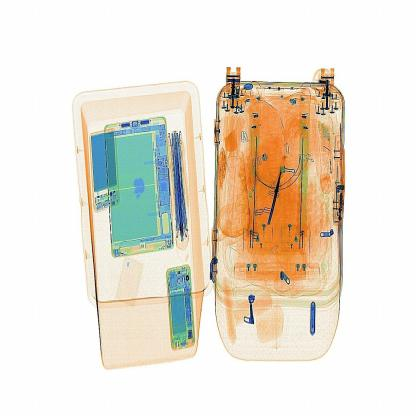gun: (263, 148, 297, 229)
